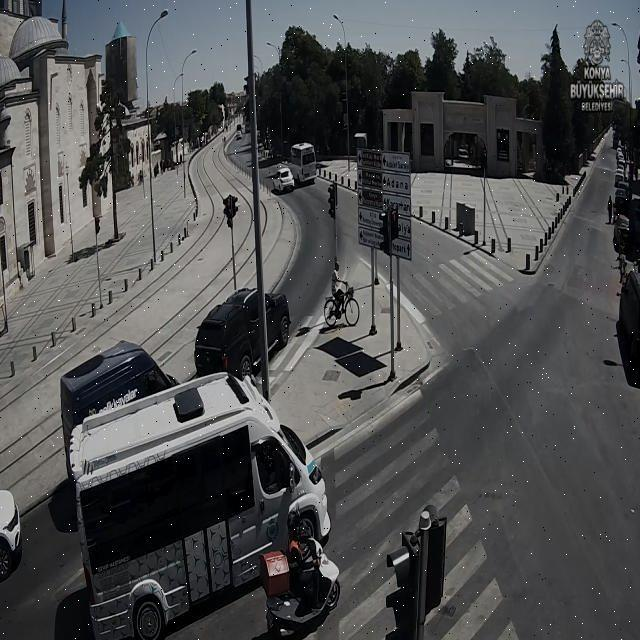Car: (271, 166, 297, 194), (612, 216, 634, 245), (613, 183, 631, 208), (612, 167, 625, 185), (233, 126, 244, 144), (615, 158, 628, 173)
Cycle: (250, 522, 340, 627), (197, 287, 290, 371), (317, 250, 362, 328)
Van: (64, 370, 335, 636), (51, 335, 182, 466), (615, 263, 640, 392), (289, 142, 323, 187)
